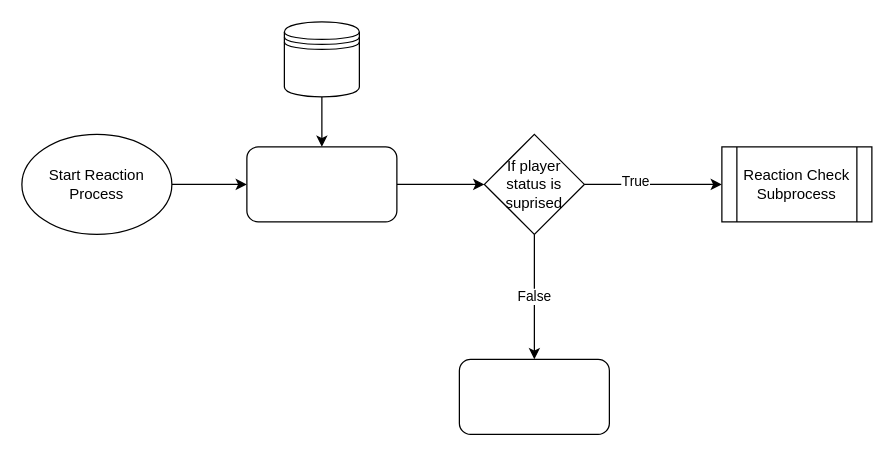
This 894x456 diagram has some shape labels left out. Here are the shapes that lost their labels. From the top down, the box of each, then its label:
(246, 146, 397, 222): Get Users status
(458, 358, 609, 434): End Reaction Process
